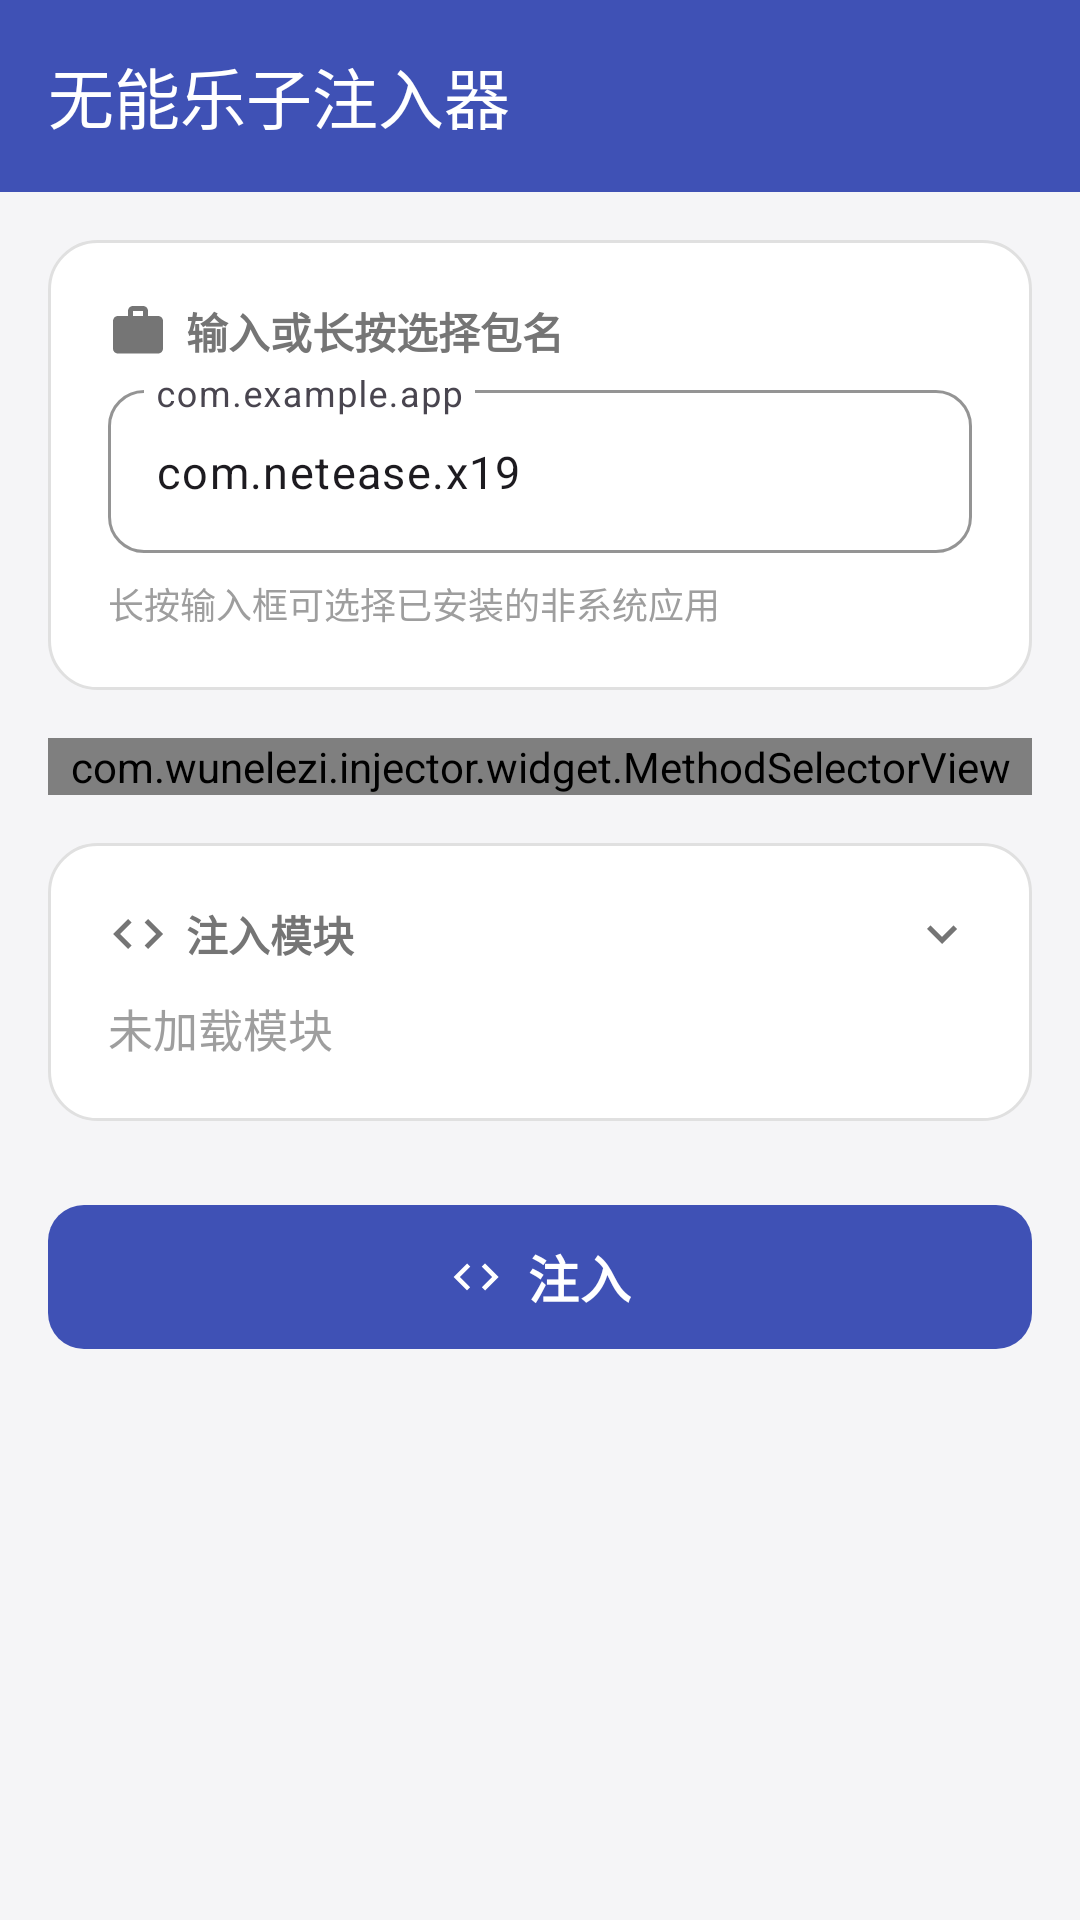

Icon bounding boxes for this 1080*1920 phone screenshot, format (x1, y1, x2, y2):
arrow down: (927, 925, 957, 944)
package: (113, 306, 163, 354)
